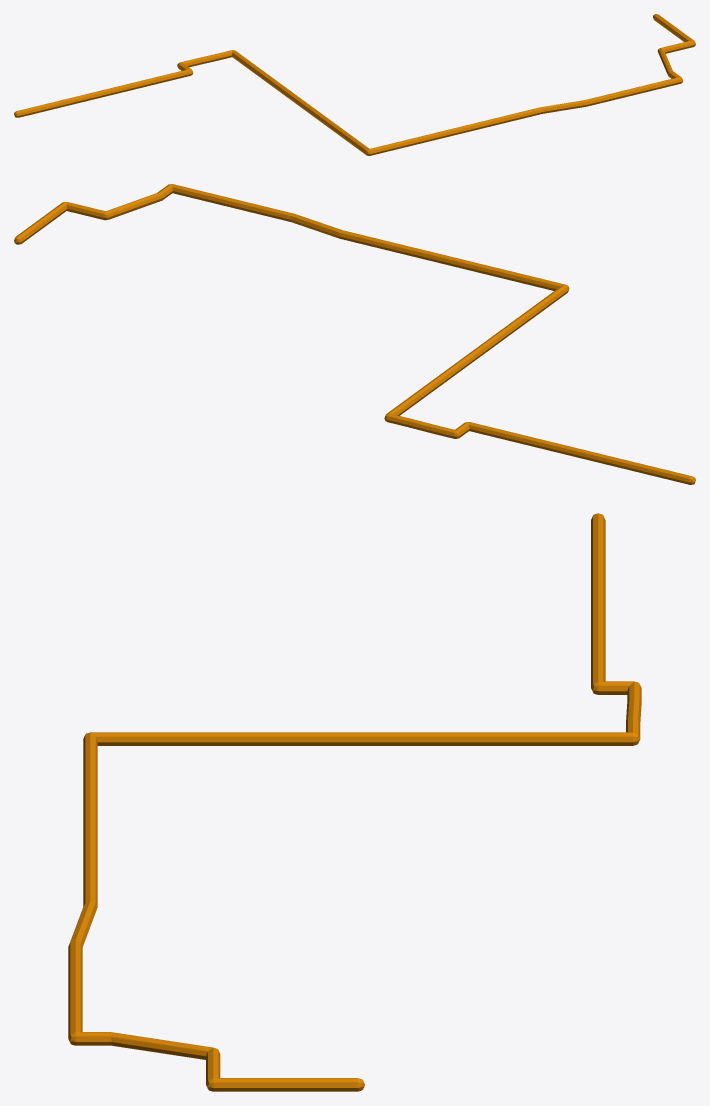
3 views of the same model, one above another, from view 1: azimuth 30°, elevation 25°; view 2: azimuth 150°, elevation 25°; view 3: azimuth 270°, elevation 25° (orthographic). The views are drawn at different scales.
Size of the model in its own units: 1867 by 20 by 792.
